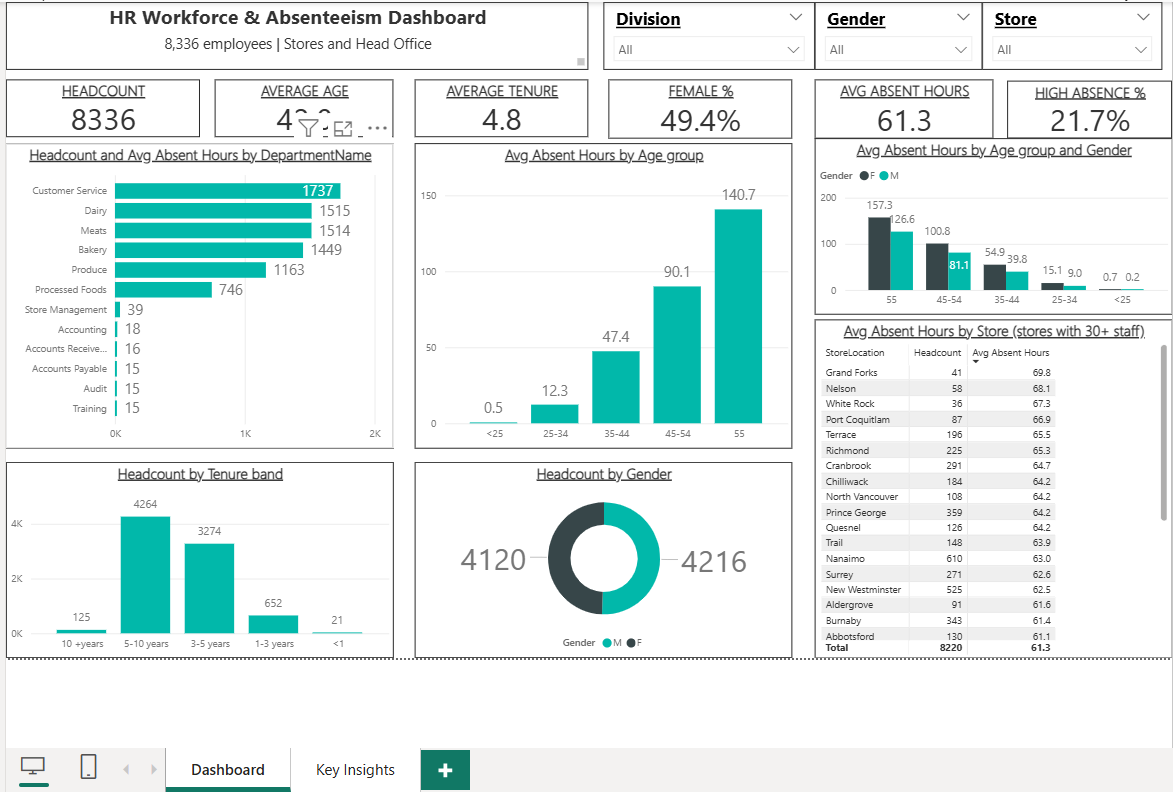

Layout of this report page (visuals, bound fields, positions):
{"tool":"powerbi","page":{"name":"Dashboard","canvas":[1280,720],"ordinal":0},"visuals":[{"type":"textbox","title":"HR Workforce & Absenteeism Dashboard","box":[0,0,639.5,74.1],"z":0},{"type":"slicer","fields":{"Values":["HRA.Division"]},"box":[655.9,0,231.9,74.1],"z":1000},{"type":"slicer","fields":{"Values":["HRA.StoreLocation"]},"box":[1071.7,0,197.6,74.1],"z":2000},{"type":"slicer","fields":{"Values":["HRA.Gender"]},"box":[887.8,0,183.9,74.1],"z":3000},{"type":"card","title":"HEADCOUNT","fields":{"Values":["HRA.Headcount"]},"box":[0,85.1,212.7,63.1],"z":4000},{"type":"card","title":"AVERAGE AGE","fields":{"Values":["HRA.Avg Age"]},"box":[229.2,85.1,196.2,63.1],"z":5000},{"type":"card","title":"AVERAGE TENURE","fields":{"Values":["HRA.Avg Tenure (Yrs)"]},"box":[448.7,85.1,190.7,63.1],"z":6000},{"type":"card","title":"FEMALE  %","fields":{"Values":["HRA.Female %"]},"box":[661.4,85.1,201.7,64.5],"z":7000},{"type":"card","title":"AVG ABSENT HOURS","fields":{"Values":["HRA.Avg Absent Hours"]},"box":[887.8,85.1,196.2,64.5],"z":8000},{"type":"card","title":"HIGH ABSENCE %","fields":{"Values":["HRA.High Absence %"]},"box":[1099.1,86.4,181.1,63.1],"z":9000},{"type":"clusteredBarChart","fields":{"Y":["HRA.Headcount"],"Category":["HRA.DepartmentName"]},"box":[0,155.1,425.4,334.8],"z":10000},{"type":"clusteredColumnChart","fields":{"Y":["HRA.Avg Absent Hours"],"Category":["HRA.Age group"]},"box":[448.7,155.1,414.4,334.8],"z":11000},{"type":"clusteredColumnChart","fields":{"Y":["HRA.Avg Absent Hours"],"Category":["HRA.Age group"],"Series":["HRA.Gender"]},"box":[887.8,149.6,392.5,193.5],"z":12000},{"type":"donutChart","title":"Headcount by Gender","fields":{"Category":["HRA.Gender"],"Y":["HRA.Headcount"]},"box":[448.7,505,414.4,215.4],"z":13000},{"type":"clusteredColumnChart","fields":{"Y":["HRA.Headcount"],"Category":["HRA.Tenure band"]},"box":[0,505,425.4,215.4],"z":14000},{"type":"tableEx","title":"Avg Absent Hours by Store (stores with 30+ staff)","fields":{"Values":["HRA.StoreLocation","HRA.Headcount","HRA.Avg Absent Hours"]},"box":[887.8,348.5,392.5,371.9],"z":15000}]}

Visuals, with their boxes in screenshot pixels (x1, y1, x2, y2):
"HR Workforce & Absenteeism Dashboard" textbox: 6/3/584/70
slicer - HRA.Division: 599/3/808/70
slicer - HRA.StoreLocation: 975/3/1153/70
slicer - HRA.Gender: 808/3/975/70
"HEADCOUNT" card: 6/80/198/137
"AVERAGE AGE" card: 213/80/391/137
"AVERAGE TENURE" card: 412/80/584/137
"FEMALE  %" card: 604/80/786/138
"AVG ABSENT HOURS" card: 808/80/986/138
"HIGH ABSENCE %" card: 999/81/1163/138
clusteredBarChart - HRA.Headcount x HRA.DepartmentName: 6/143/391/446
clusteredColumnChart - HRA.Avg Absent Hours x HRA.Age group: 412/143/786/446
clusteredColumnChart - HRA.Avg Absent Hours x HRA.Age group: 808/138/1163/313
"Headcount by Gender" donutChart: 412/459/786/654
clusteredColumnChart - HRA.Headcount x HRA.Tenure band: 6/459/391/654
"Avg Absent Hours by Store (stores with 30+ staff)" tableEx: 808/318/1163/654
